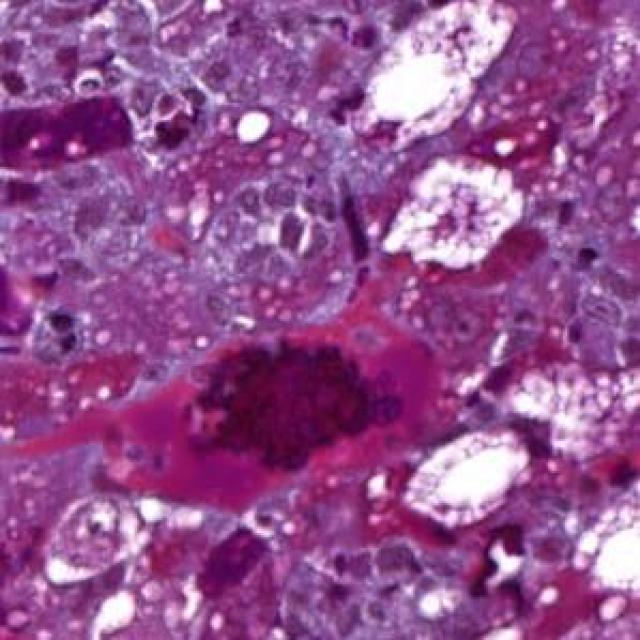ballooning: (358, 5, 520, 158), (377, 154, 533, 272), (402, 424, 533, 533), (41, 490, 158, 593)
